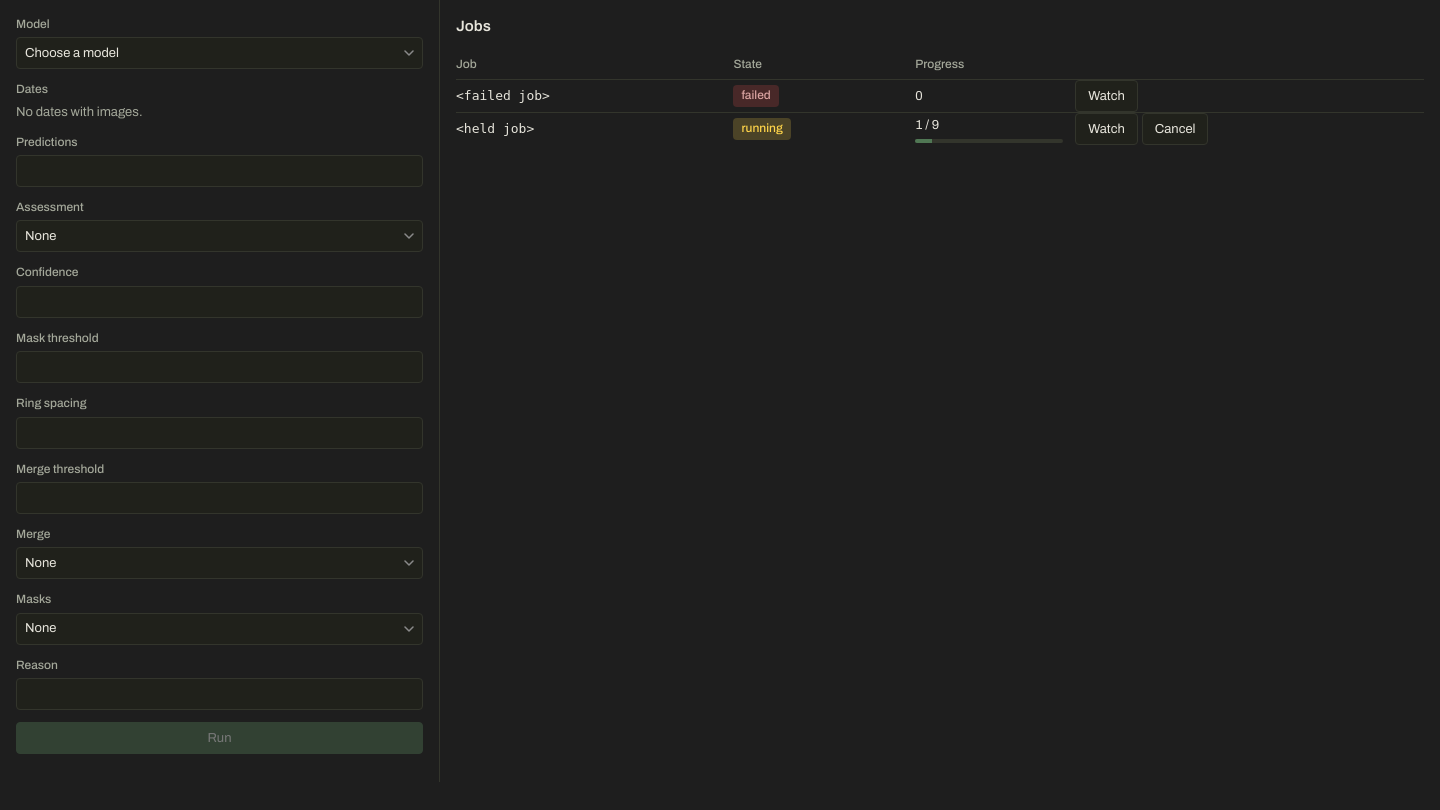
Test: InferenceTab job table › shows a failed job's reason, not just its status badge
Expected: the text "<failed job>" is shown, [456,80,733,113]
Click the button "Watch" in the row of "<failed job>".
click(1107, 96)  # box [1075,80,1138,112]
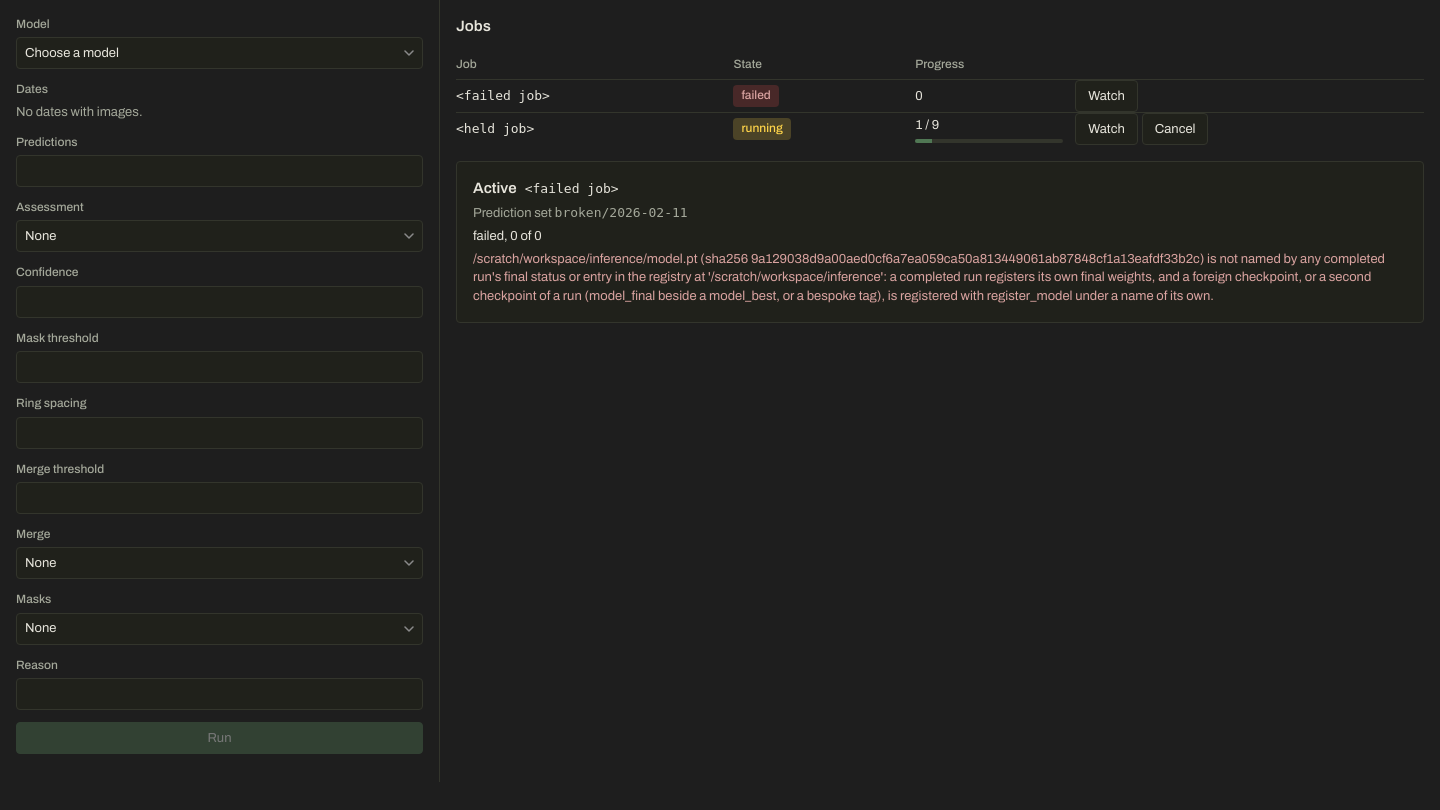
Expected: the text "/scratch/workspace/inference/model.pt (sha256 9a129038d9a00aed0cf6a7ea059ca50a813449061ab87848cf1a13eafdf33b2c) is not n" is shown, [473,252,1385,303]
